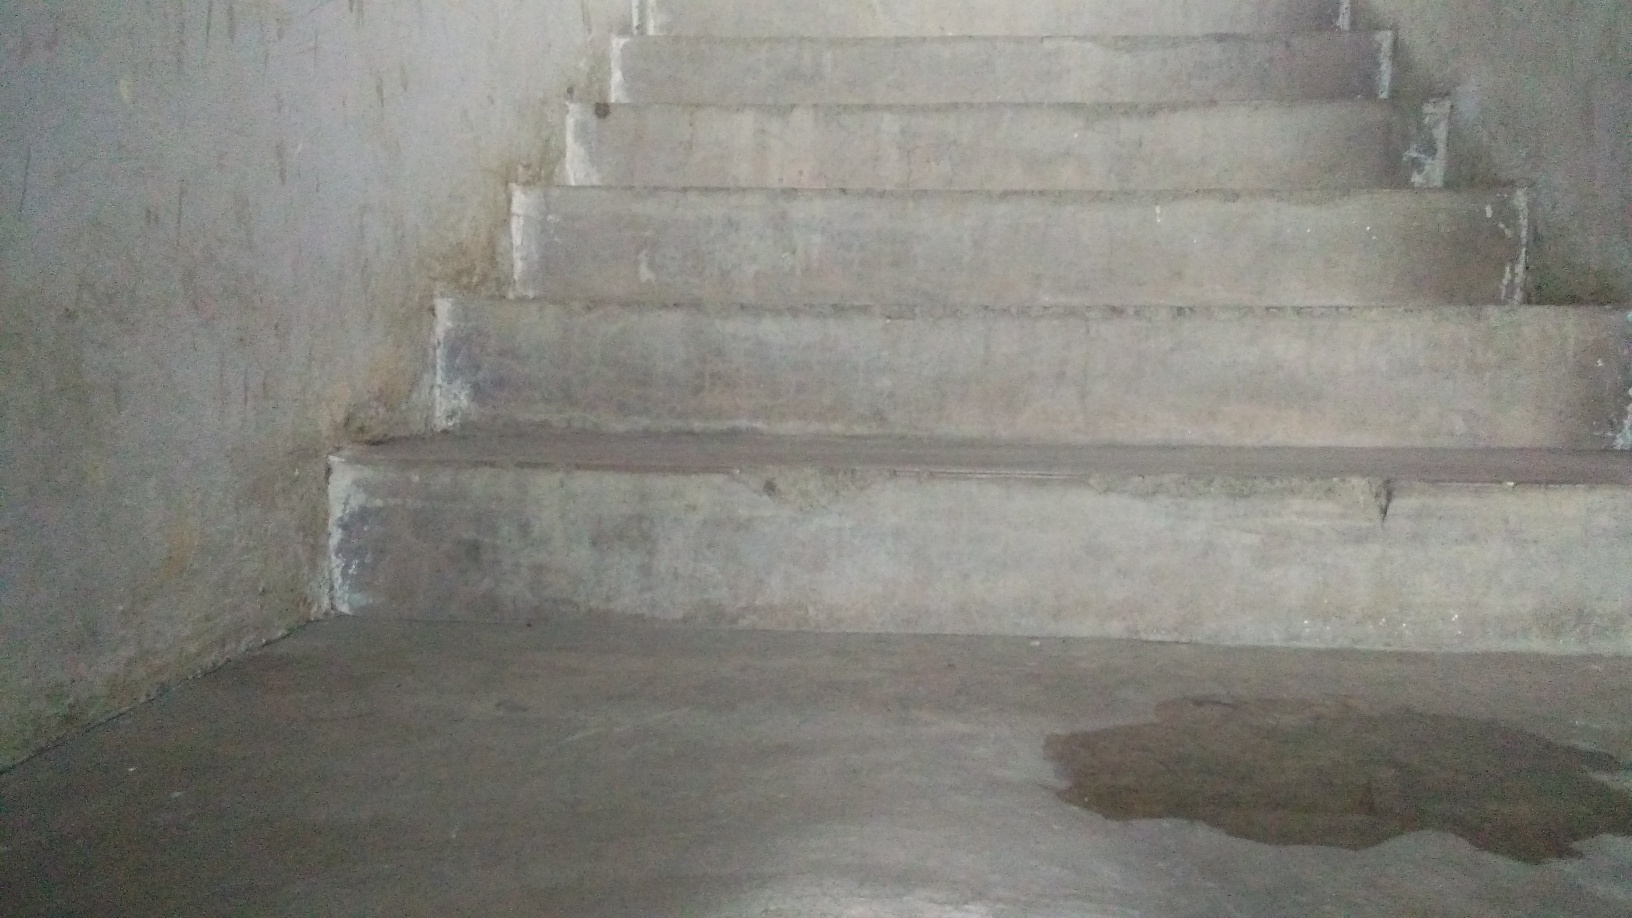stairs_up: (296, 6, 1632, 657)
